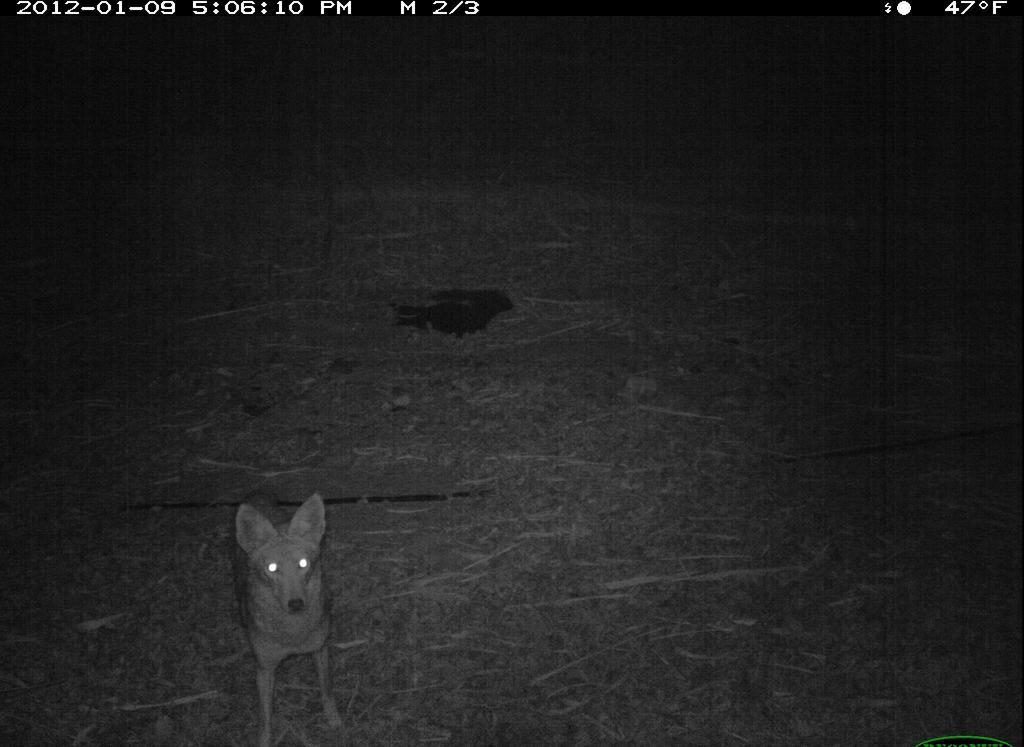coyote: (223, 491, 358, 747)
